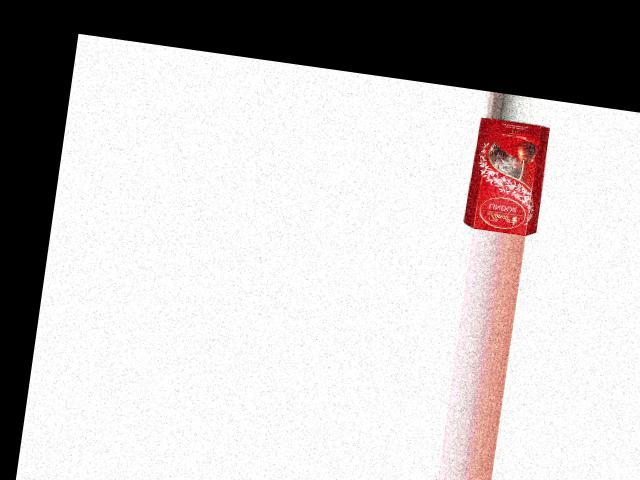chocolate: (461, 115, 556, 237)
